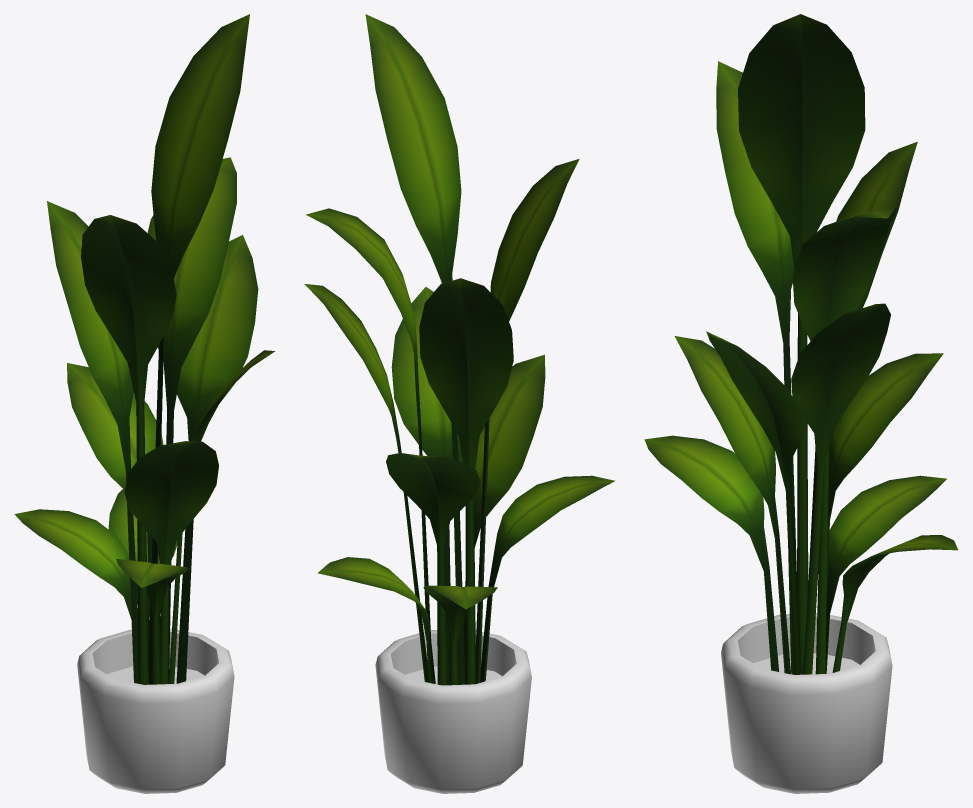
The model's file is House_Pot_Plant_05.fbx.
The picture shows the model from 3 angles, left to right: view 1: azimuth 30°, elevation 25°; view 2: azimuth 150°, elevation 25°; view 3: azimuth 270°, elevation 25°; orthographic projection. The views are drawn at different scales.
Parts seen in each view (by area): view 1: House_Pot_Plant_05; view 2: House_Pot_Plant_05; view 3: House_Pot_Plant_05.
Boxes of the visible parts, left/top/right/bottom form: House_Pot_Plant_05: left=14, top=14, right=275, bottom=793; House_Pot_Plant_05: left=304, top=14, right=614, bottom=793; House_Pot_Plant_05: left=644, top=14, right=957, bottom=793.
Bounding box in the file's own units: 0.6779 × 2.29 × 0.8139.
